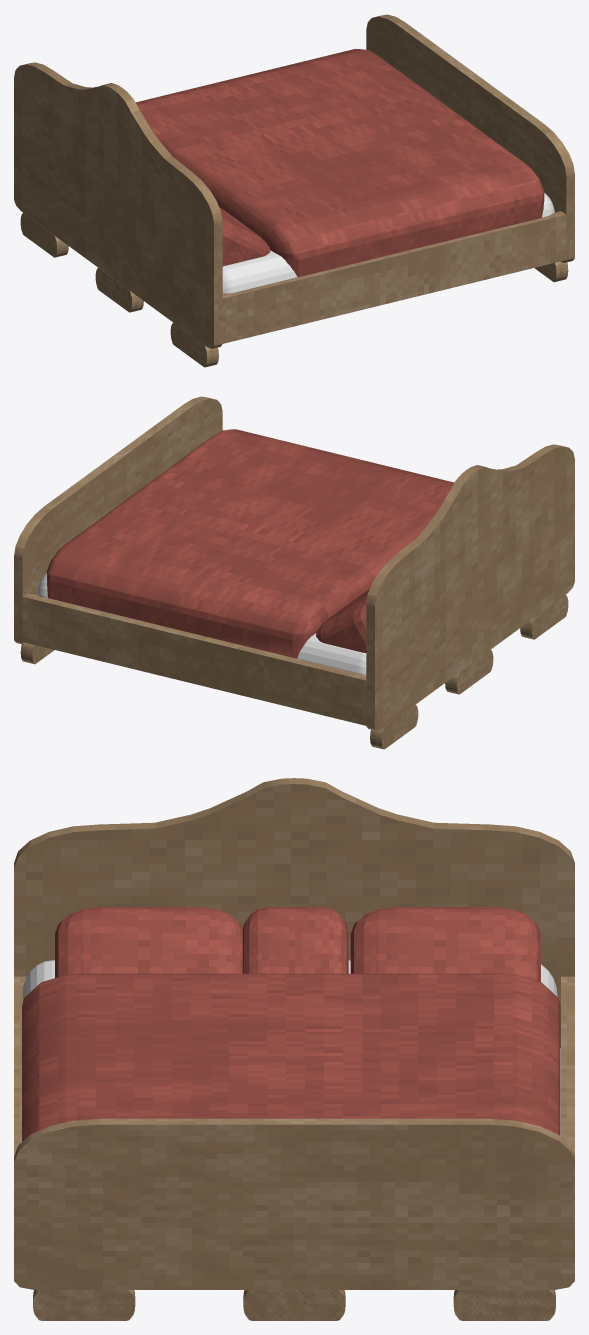
Rendered from doubleBed.fbx.
3 renders of one model, top to bottom at view 1: azimuth 30°, elevation 25°; view 2: azimuth 150°, elevation 25°; view 3: azimuth 270°, elevation 25°, orthographic. The views are drawn at different scales.
Parts seen in each view (by area): view 1: Plane.016, Plane.060, Plane.012, Plane.010, Plane.001, Plane.009, Cube.018, Plane.005; view 2: Plane.016, Plane.060, Plane.011, Plane.010, Plane.001, Cube.019, Plane.017, Plane.005; view 3: Plane.010, Plane.016, Plane.060, Cube.019, Cube.018, Plane.005, Cube.020, Plane.011, Plane.012.
Part boxes in pixels (left/top/right/bottom): Plane.016: left=135, top=49, right=544, bottom=277; Plane.060: left=14, top=62, right=222, bottom=348; Plane.012: left=222, top=211, right=566, bottom=343; Plane.010: left=366, top=14, right=574, bottom=262; Plane.001: left=20, top=213, right=218, bottom=367; Plane.009: left=222, top=193, right=554, bottom=293; Cube.018: left=219, top=207, right=270, bottom=266; Plane.005: left=534, top=261, right=568, bottom=282; Plane.016: left=47, top=429, right=454, bottom=658; Plane.060: left=366, top=444, right=574, bottom=730; Plane.011: left=22, top=593, right=366, bottom=725; Plane.010: left=14, top=396, right=222, bottom=644; Plane.001: left=370, top=595, right=568, bottom=749; Cube.019: left=316, top=589, right=369, bottom=652; Plane.017: left=37, top=573, right=366, bottom=675; Plane.005: left=20, top=643, right=54, bottom=664; Plane.010: left=14, top=1118, right=574, bottom=1289; Plane.016: left=22, top=973, right=560, bottom=1141; Plane.060: left=14, top=778, right=574, bottom=1047; Cube.019: left=350, top=907, right=540, bottom=981; Cube.018: left=55, top=907, right=242, bottom=977; Plane.005: left=33, top=1290, right=555, bottom=1320; Cube.020: left=243, top=907, right=348, bottom=973; Plane.011: left=561, top=976, right=574, bottom=1156; Plane.012: left=14, top=976, right=26, bottom=1156.
Bounding box in the file's own units: 417 × 233 × 400.
